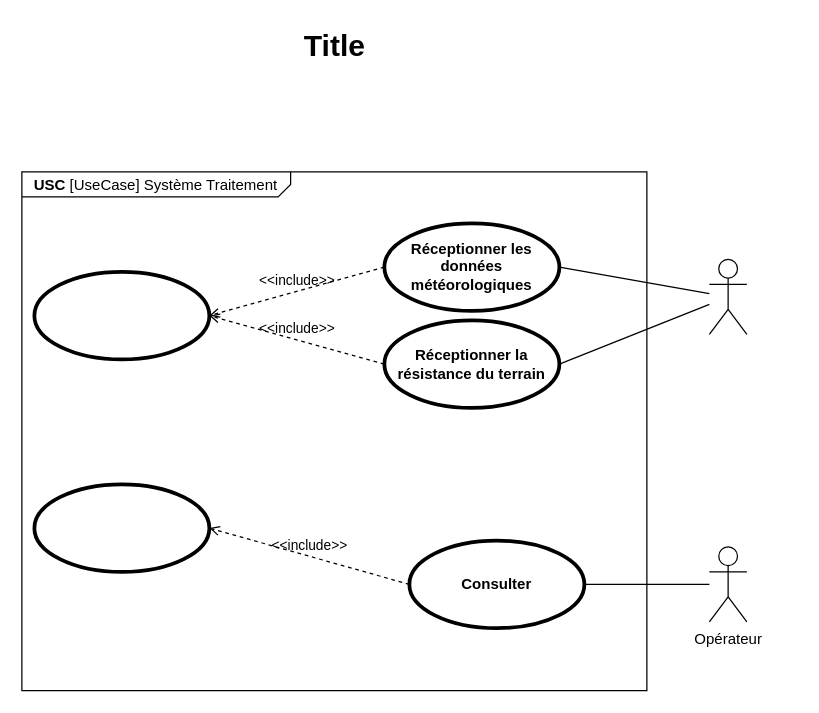
Image size: 819x713. Some labels were removed from this diagram. The centre of each missing label's shape, as x and y in pixels:
"Archiver les données" goes at point (121, 315).
"SystemesAcquisition" goes at point (727, 296).
"Traiter les données" goes at point (121, 527).
